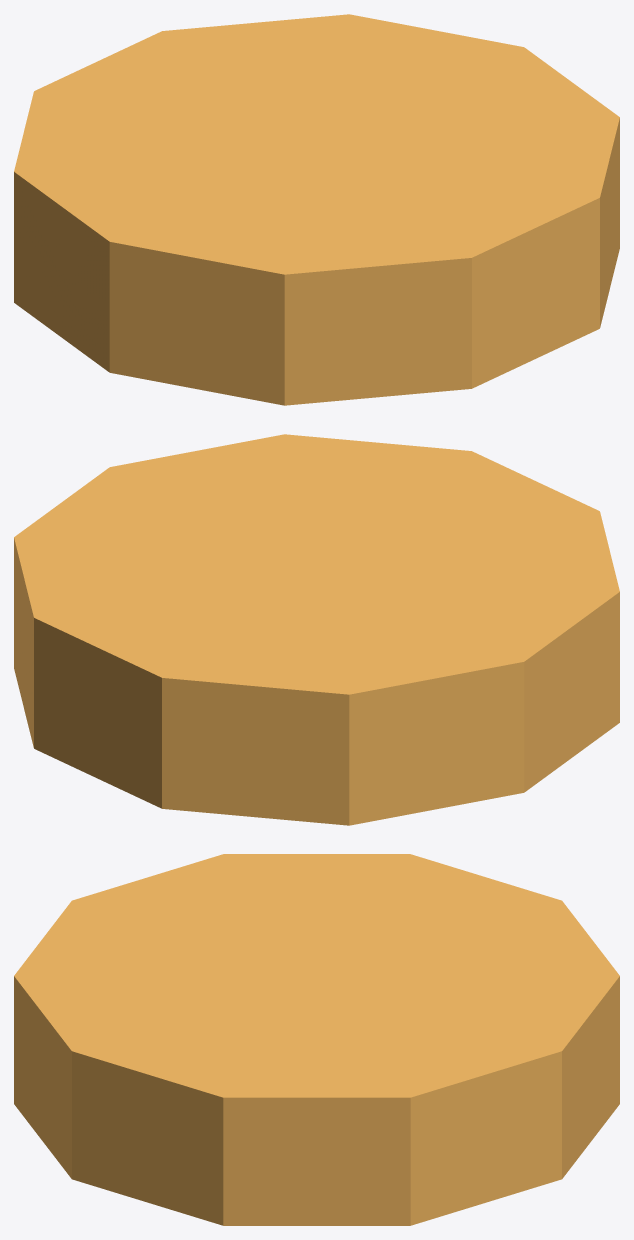
File: grivna.fbx
3 renders of one model, top to bottom at view 1: azimuth 30°, elevation 25°; view 2: azimuth 150°, elevation 25°; view 3: azimuth 270°, elevation 25°, orthographic. The views are drawn at different scales.
Visible parts, largest first — view 1: coin; view 2: coin; view 3: coin.
Boxes of the visible parts, left/top/right/bottom form: coin: left=14, top=14, right=619, bottom=405; coin: left=14, top=434, right=619, bottom=825; coin: left=14, top=854, right=619, bottom=1225.
Bounding box in the file's own units: 28.53 × 7 × 30.
